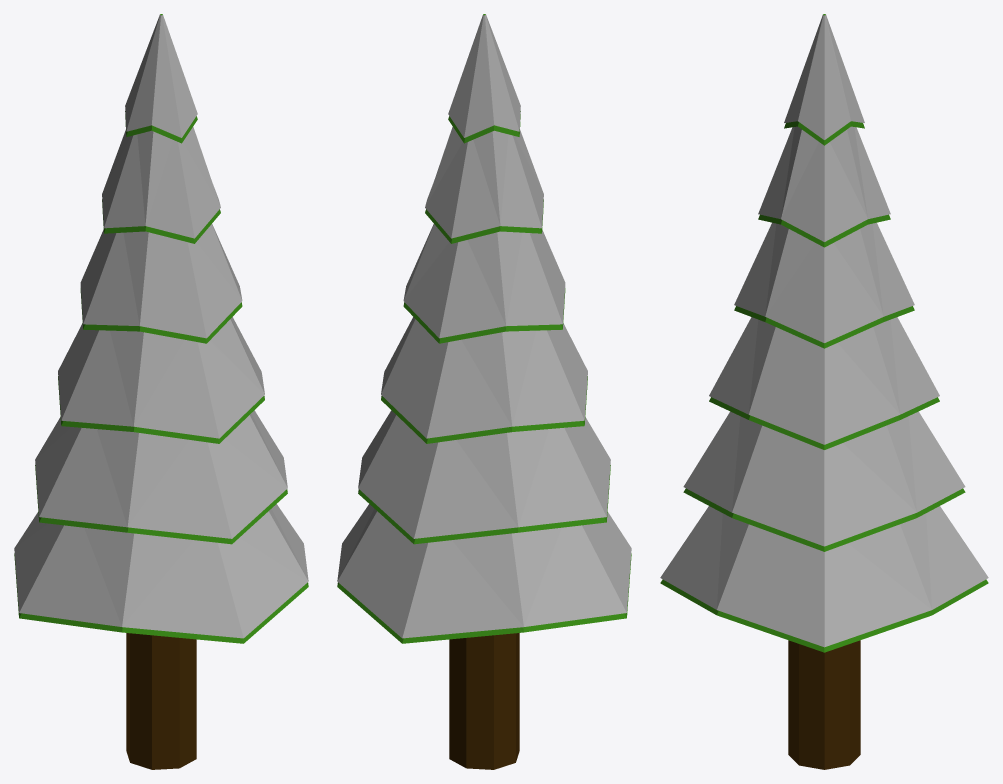
The model's file is tree4.dae.
The picture shows the model from 3 angles, left to right: view 1: azimuth 30°, elevation 25°; view 2: azimuth 150°, elevation 25°; view 3: azimuth 270°, elevation 25°; orthographic projection.
Parts seen in each view (by area): view 1: SapinHiver; view 2: SapinHiver; view 3: SapinHiver.
Part boxes in pixels (x1,y1,x2,y2): SapinHiver: (14,14,308,769); SapinHiver: (337,14,631,769); SapinHiver: (660,14,988,769).
Bounding box in the file's own units: 2.02 × 2.02 × 5.02.
